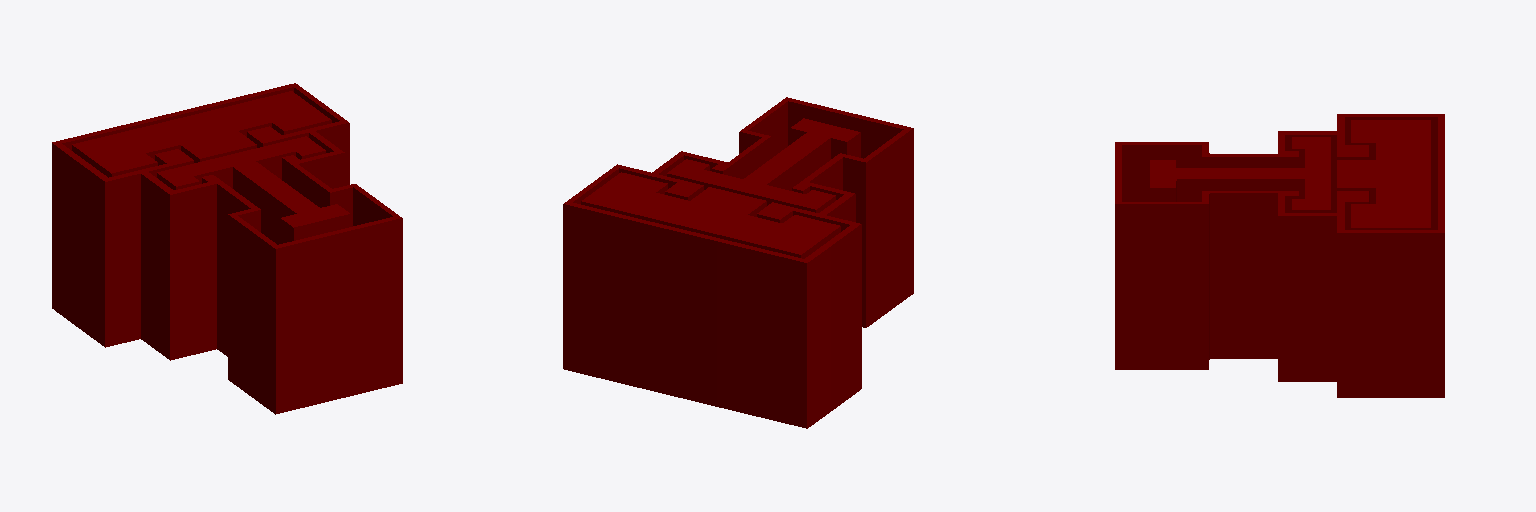
File: ttu.obj
The picture shows the model from 3 angles: view 1: azimuth 30°, elevation 25°; view 2: azimuth 150°, elevation 25°; view 3: azimuth 270°, elevation 25°; orthographic projection.
Visible parts, largest first — view 1: Curve_Curve.003, Curve.001_Curve.004, Curve.002_Curve.005; view 2: Curve_Curve.003, Curve.001_Curve.004, Curve.002_Curve.005; view 3: Curve_Curve.003, Curve.001_Curve.004, Curve.002_Curve.005.
Part boxes in pixels (bbox=[...]): Curve_Curve.003: bbox=[52, 83, 402, 414]; Curve.001_Curve.004: bbox=[72, 91, 331, 177]; Curve.002_Curve.005: bbox=[157, 136, 350, 244]; Curve_Curve.003: bbox=[563, 97, 913, 428]; Curve.001_Curve.004: bbox=[581, 172, 840, 258]; Curve.002_Curve.005: bbox=[667, 118, 860, 212]; Curve_Curve.003: bbox=[1115, 114, 1444, 397]; Curve.001_Curve.004: bbox=[1337, 120, 1430, 229]; Curve.002_Curve.005: bbox=[1150, 137, 1330, 212].
Size of the model in its own units: 5.2 by 3.37 by 6.09.